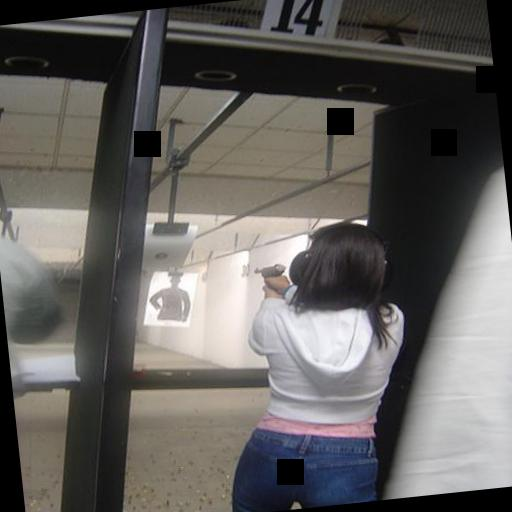Handgun: (252, 260, 284, 280)
